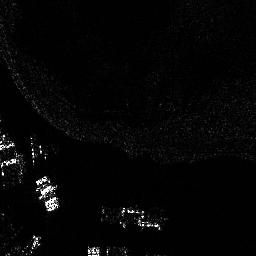ship: (34, 176, 61, 210)
